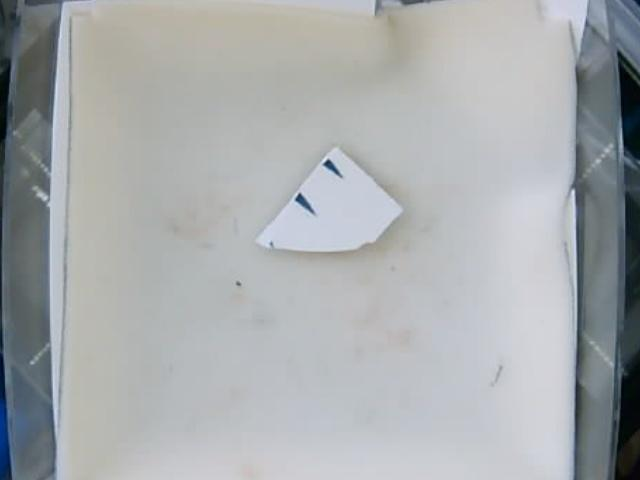China: (261, 145, 404, 252)
